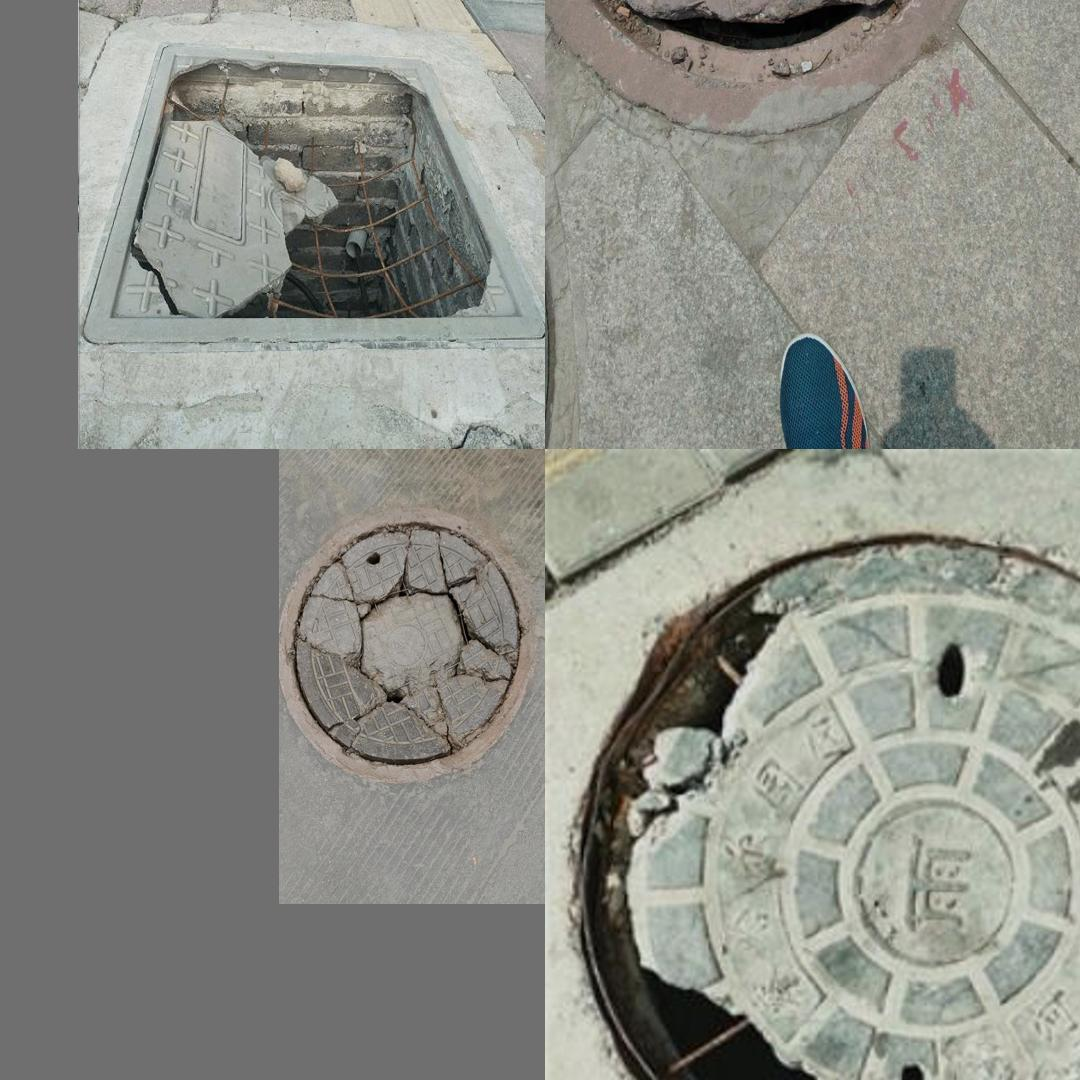broke: (574, 516, 1080, 1080), (101, 34, 502, 384), (283, 505, 531, 774), (545, 0, 1000, 129)
